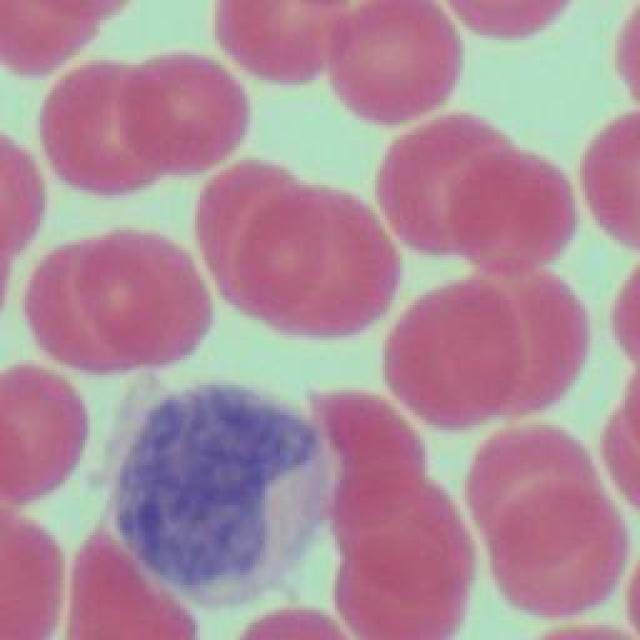RBC: (234, 185, 401, 337), (451, 262, 589, 416), (381, 280, 519, 428), (377, 115, 515, 255), (76, 226, 214, 366), (490, 474, 625, 614), (194, 160, 314, 315), (39, 61, 176, 194), (27, 240, 165, 372), (467, 425, 595, 563), (325, 0, 460, 128), (120, 53, 248, 175), (451, 148, 574, 270), (67, 527, 192, 640), (0, 364, 88, 508), (212, 0, 349, 82), (0, 0, 105, 82), (580, 114, 640, 254), (0, 512, 65, 640), (1, 131, 44, 254), (452, 0, 572, 40), (602, 405, 640, 507), (607, 262, 640, 365), (239, 608, 346, 638), (612, 5, 640, 103), (536, 620, 632, 640), (40, 1, 122, 21), (617, 372, 640, 442)
WBC: (107, 375, 335, 613)
